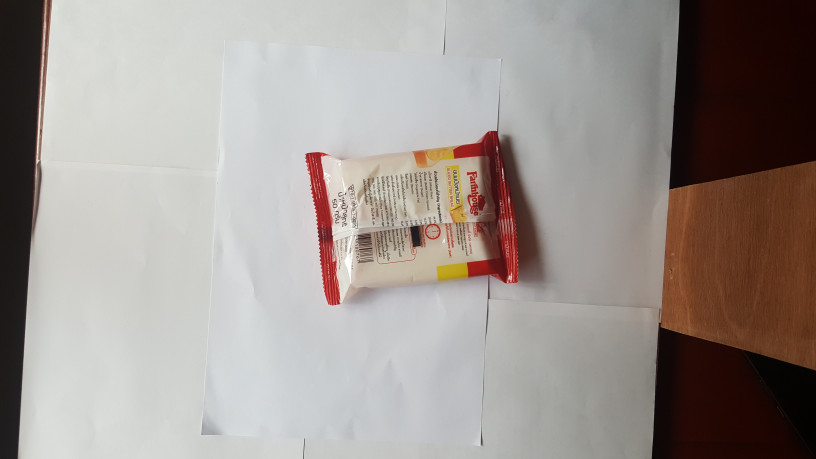farmhouse-bread-butter: (299, 125, 532, 313)
